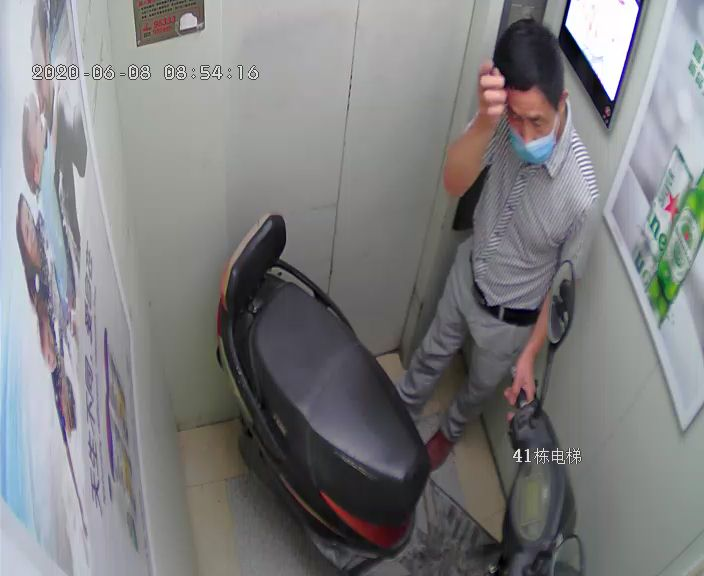Electric-bicycle: (225, 225, 568, 574)
